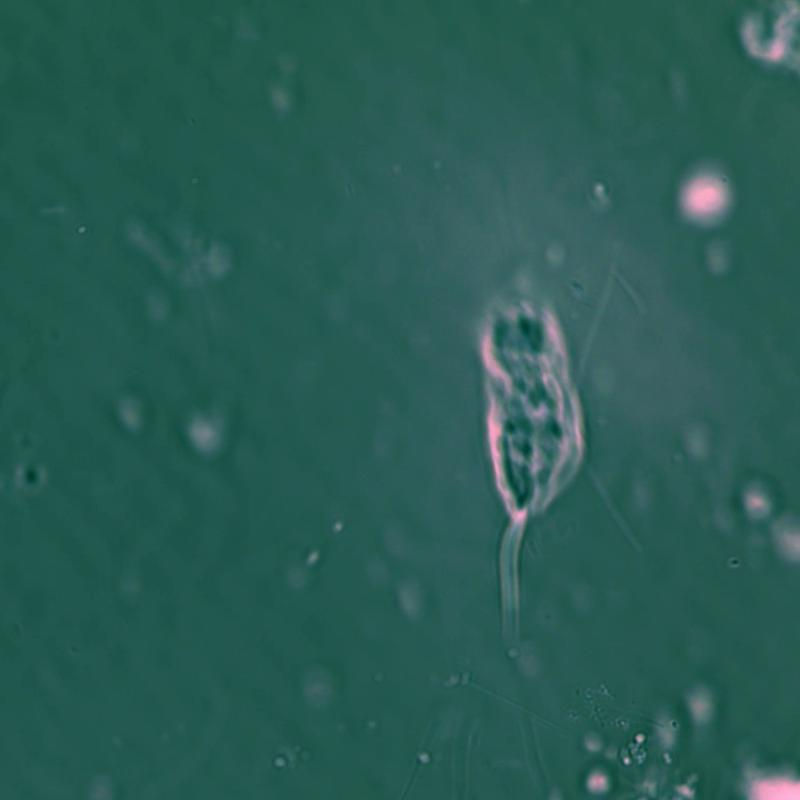depth:40: (440, 284, 628, 654)
